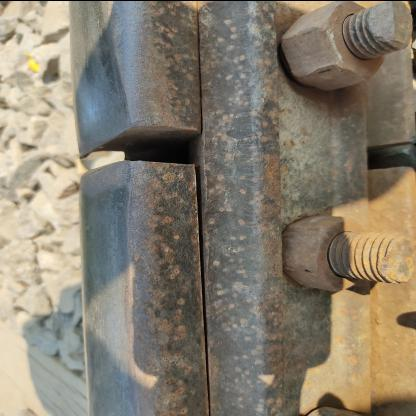Defective: (47, 19, 286, 279)
